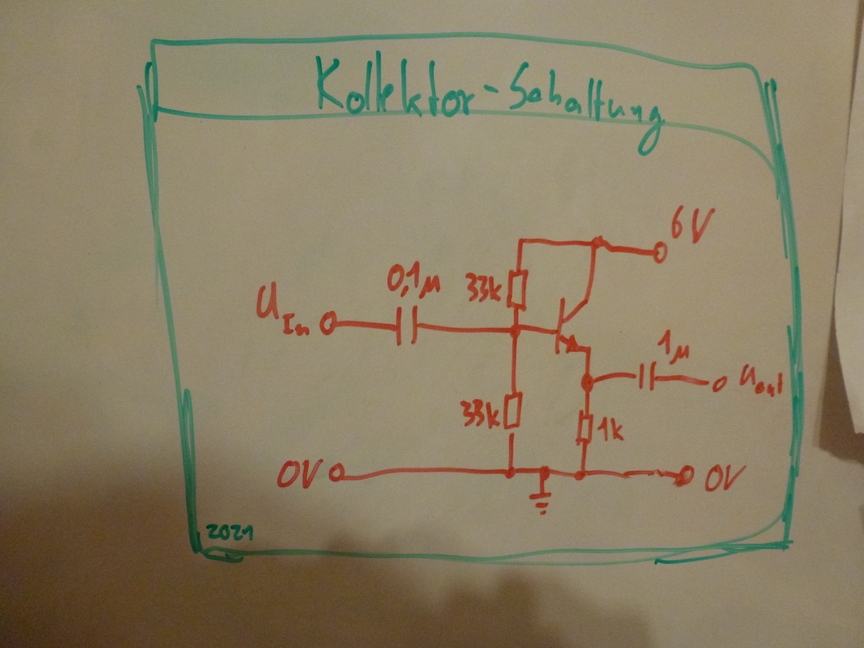capacitor.unpolarized: (386, 303, 429, 350), (630, 359, 662, 394)
gnd: (527, 488, 558, 520)
junction: (577, 369, 601, 395), (587, 233, 608, 254), (534, 462, 556, 482), (506, 320, 525, 340), (498, 462, 518, 481), (571, 465, 590, 484), (514, 232, 529, 248)
resistor: (499, 384, 527, 438), (504, 260, 531, 316), (572, 405, 595, 448)
terminal: (645, 238, 674, 267), (316, 308, 343, 337), (672, 460, 699, 488), (702, 371, 731, 397), (327, 461, 348, 485)
text: (306, 47, 666, 159), (248, 278, 313, 343), (382, 256, 444, 302), (664, 201, 718, 247), (735, 361, 788, 403), (273, 454, 325, 493), (455, 395, 503, 433), (702, 461, 748, 496), (462, 270, 503, 309), (655, 327, 693, 368), (204, 520, 259, 546), (594, 413, 630, 445)
transistor: (550, 294, 598, 358)
